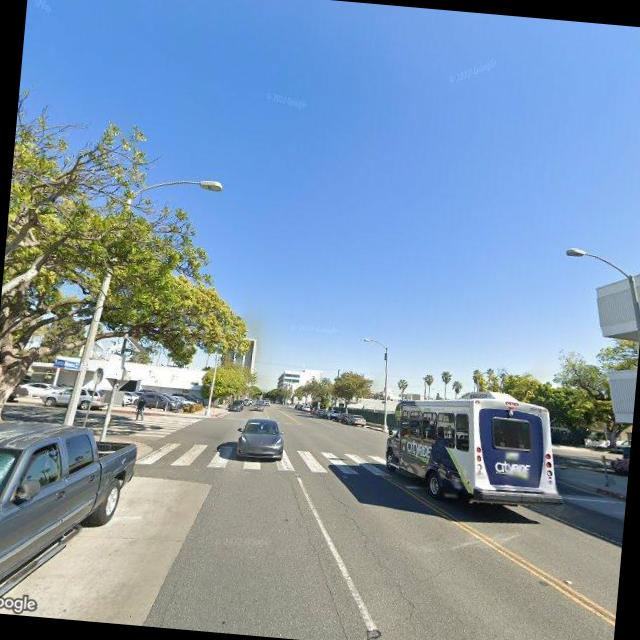pothole: (312, 482, 426, 622)
